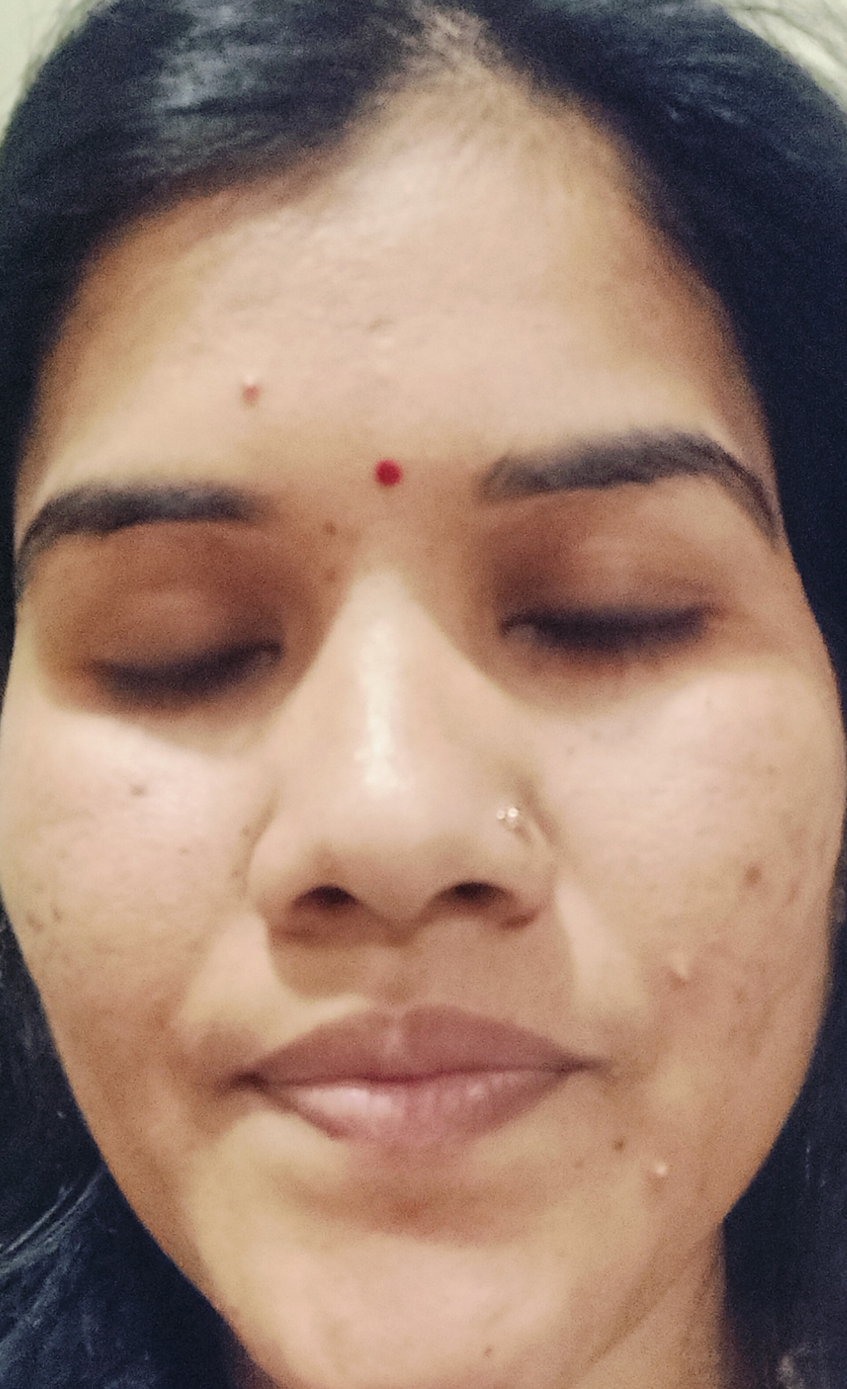pustule: (222, 366, 297, 446), (641, 939, 705, 1019), (614, 1138, 682, 1200)
